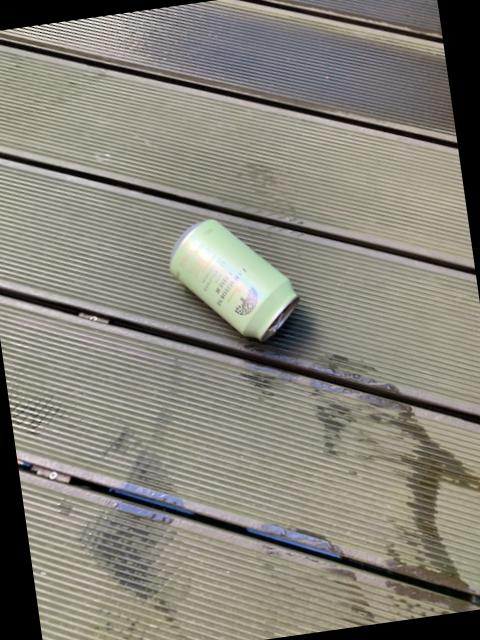metal: (170, 220, 297, 341)
